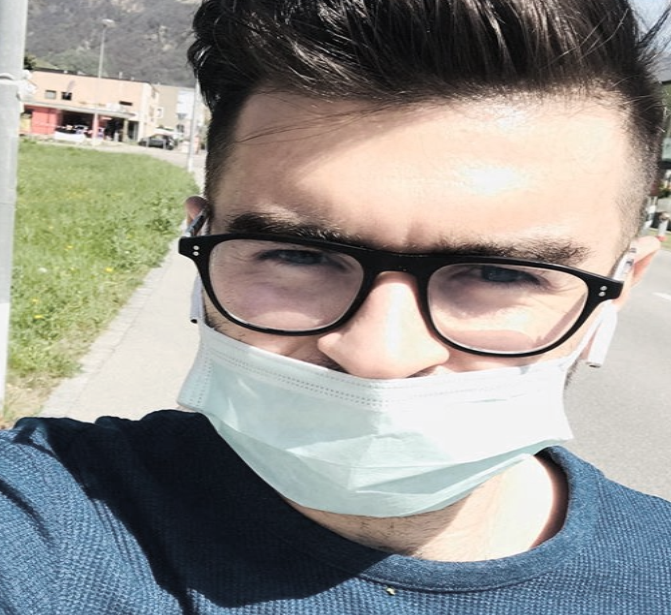mask_weared_incorrect: (171, 43, 671, 525)
